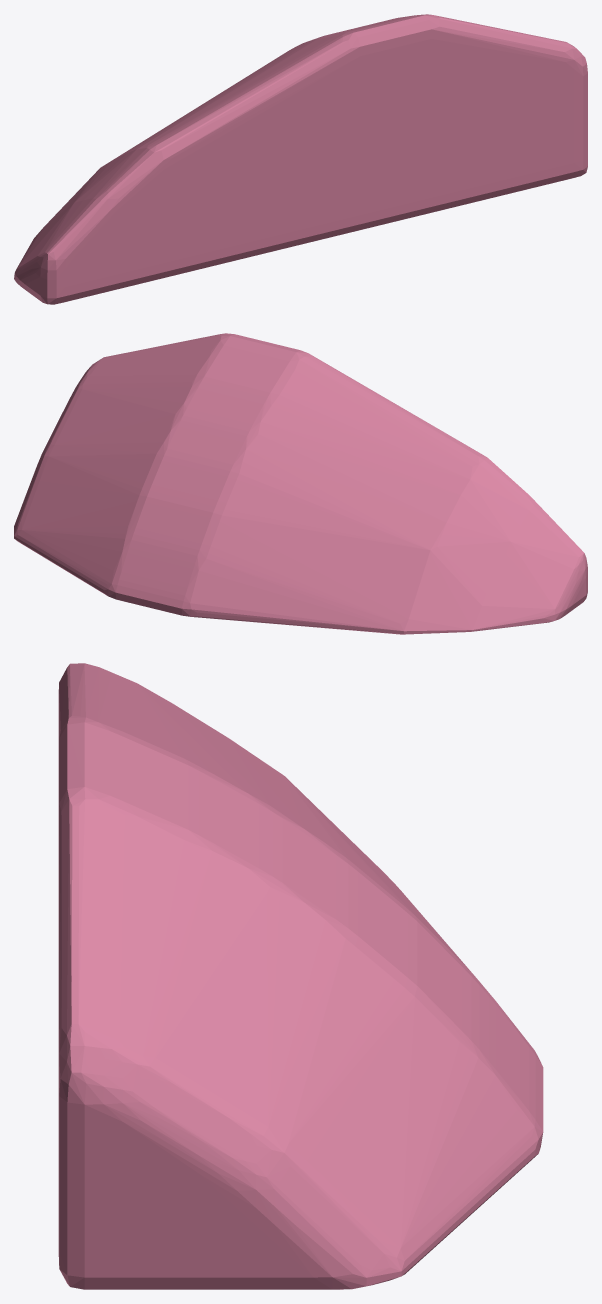
Rendered from left_hip_yaw_link_part_24.obj.
The picture shows the model from 3 angles, top to bottom: view 1: azimuth 30°, elevation 25°; view 2: azimuth 150°, elevation 25°; view 3: azimuth 270°, elevation 25°; orthographic projection. The views are drawn at different scales.
Size of the model in its own units: 0.0752 by 0.0261 by 0.0313.
